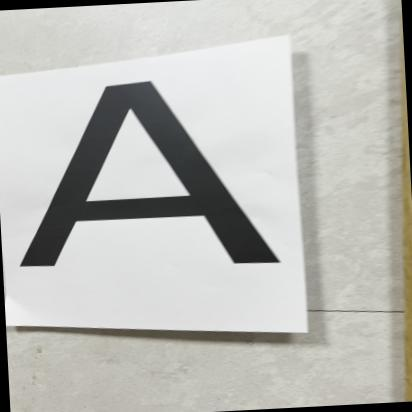seat: (0, 64, 319, 316)
